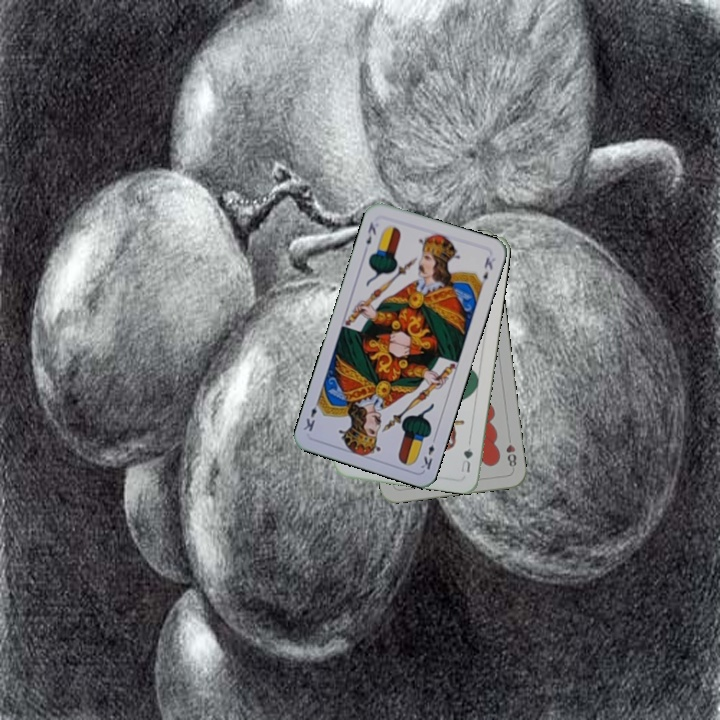EK: (417, 432, 439, 472), (362, 218, 379, 247)
GU: (457, 437, 475, 475)
H8: (502, 440, 519, 469)
